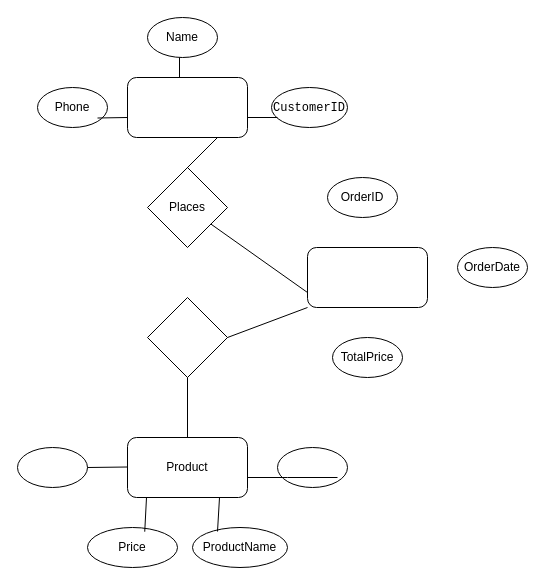
Some shapes in this 545 by 585 pixel diagram are drawn without their labels. The centre of each missing label's shape, as x and y in pixels:
Contains: point (187, 337)
Customer: point (187, 107)
Image: point (52, 467)
Order: point (367, 277)
ProductID: point (312, 467)
